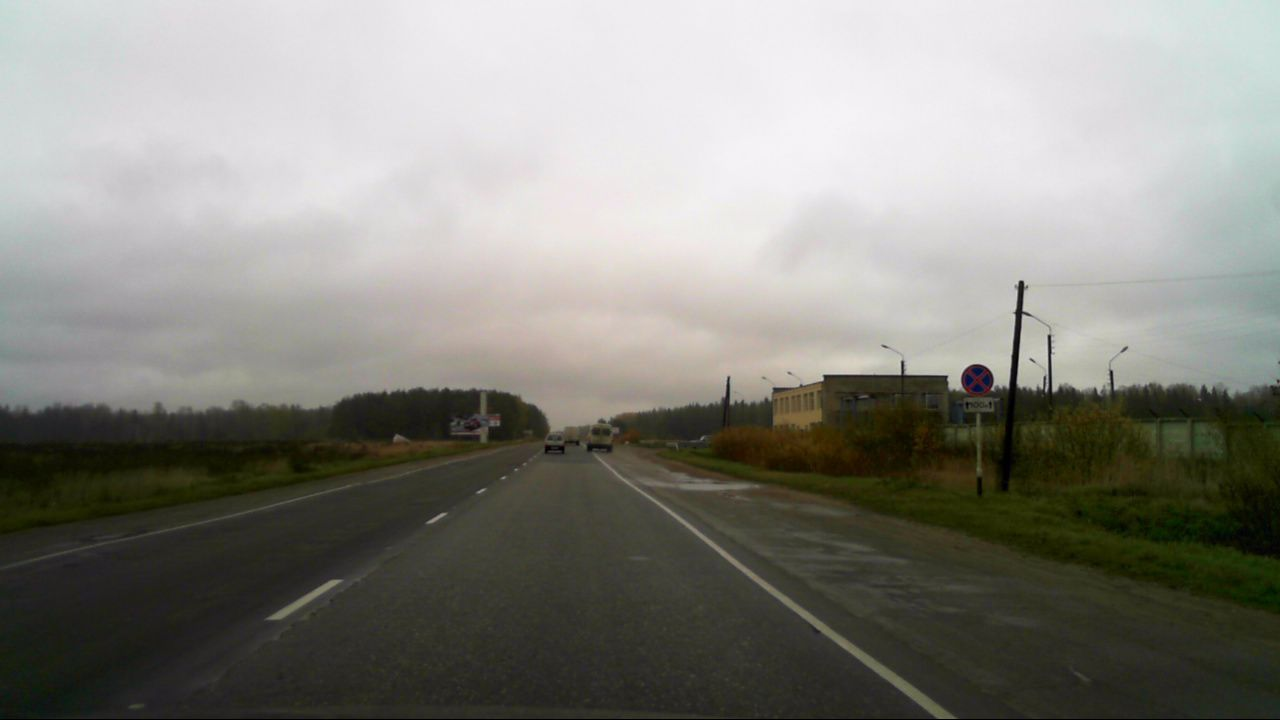No Parking: (961, 364, 993, 396)
